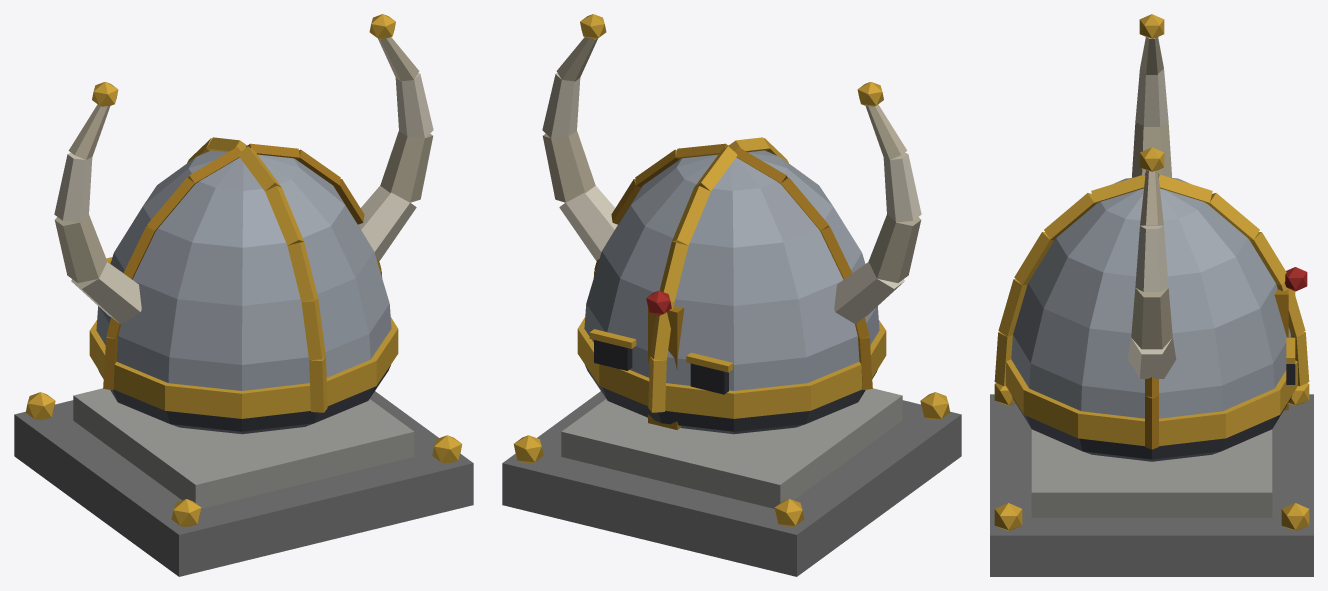
Rendered from Decor_VikingLonghouse_Helmet.fbx.
3 renders of one model, left to right at view 1: azimuth 30°, elevation 25°; view 2: azimuth 150°, elevation 25°; view 3: azimuth 270°, elevation 25°, orthographic.
Visible parts, largest first — view 1: Helmet_Body; view 2: Helmet_Body; view 3: Helmet_Body.
Part boxes in pixels (x1,y1,x2,y2): Helmet_Body: (14, 14, 473, 576); Helmet_Body: (502, 14, 961, 576); Helmet_Body: (990, 14, 1313, 576).
Size of the model in its own units: 18.2 by 20.3 by 14.
